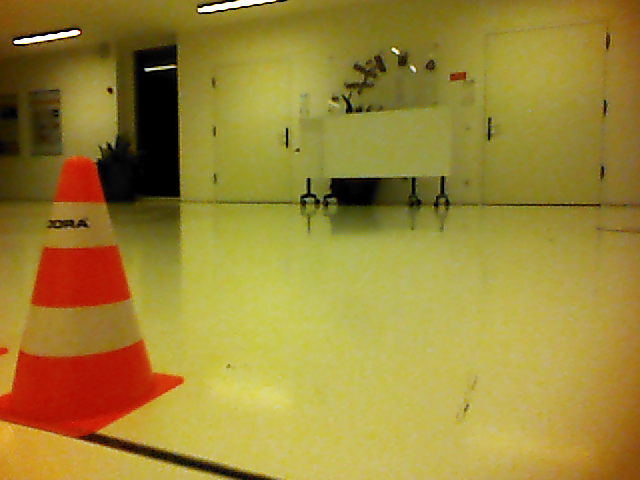orangeconesmall: (12, 154, 153, 420)
